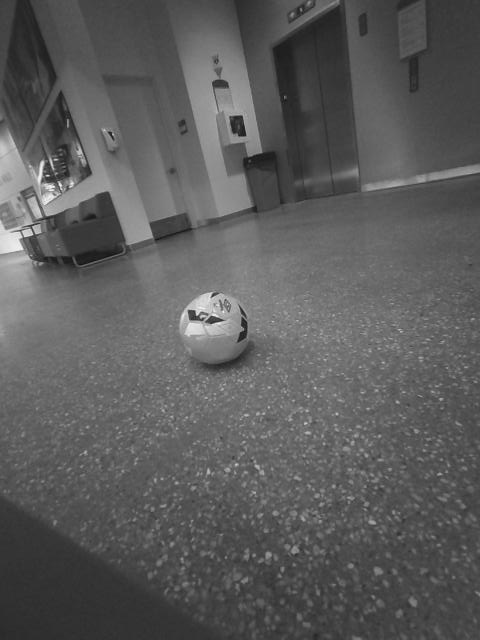ball: (169, 287, 260, 371)
